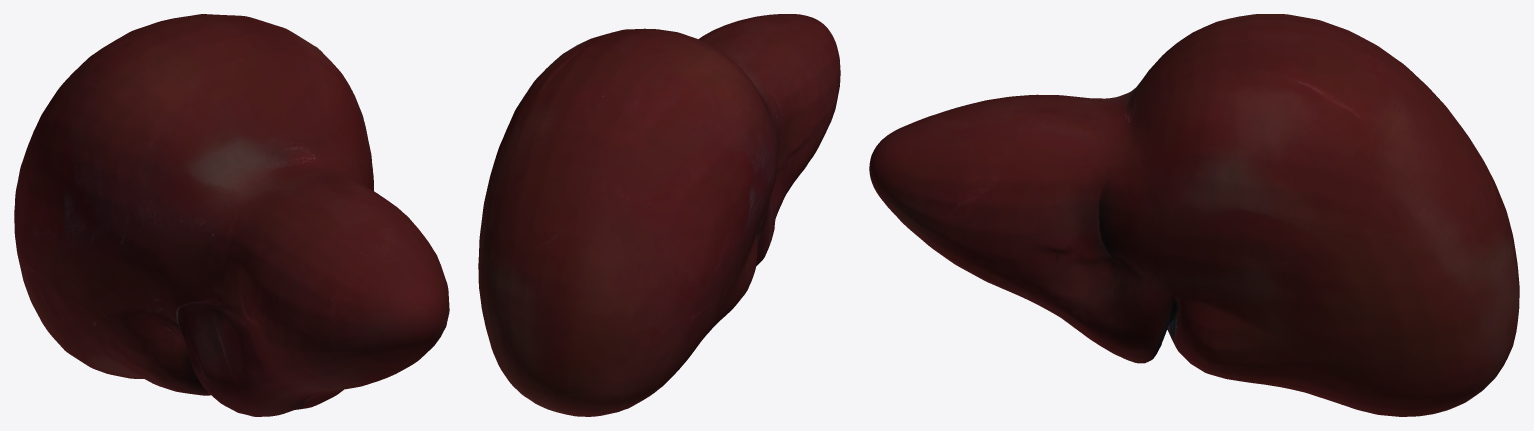
The model's file is cow_liver.glb.
3 views of the same model, side by side, from view 1: azimuth 30°, elevation 25°; view 2: azimuth 150°, elevation 25°; view 3: azimuth 270°, elevation 25° (orthographic). The views are drawn at different scales.
Parts seen in each view (by area): view 1: model; view 2: model; view 3: model.
Boxes of the visible parts, left/top/right/bottom form: model: left=14, top=14, right=449, bottom=416; model: left=478, top=14, right=840, bottom=416; model: left=869, top=14, right=1519, bottom=416.
Bounding box in the file's own units: 0.9069 × 1.2 × 1.9.
Materials: 1 (1 with a texture image).
